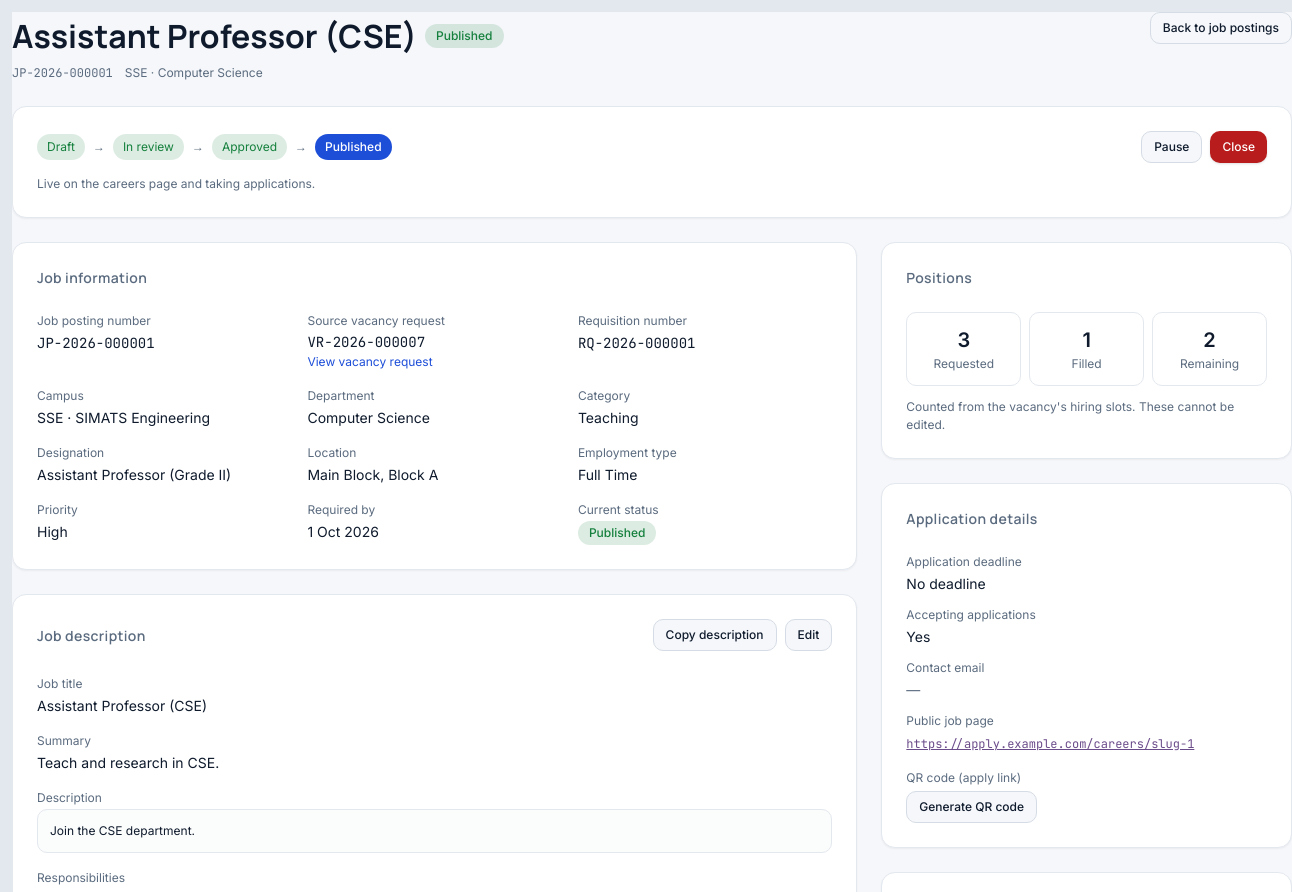
Test: JobPostingDetailPage › shows the backend's message when a lifecycle action is refused
Click the button "Pause": (1172,147) [1141, 131, 1202, 163]
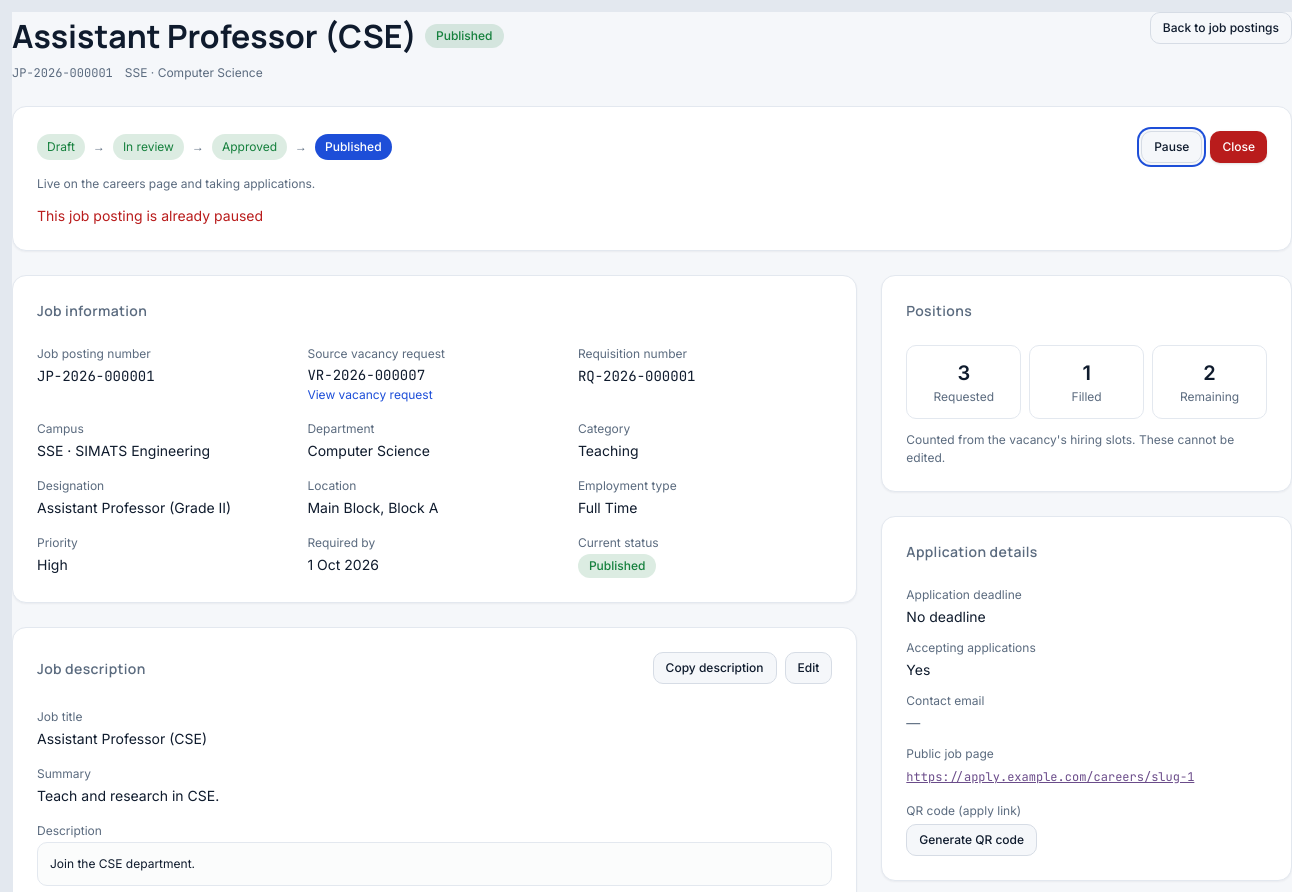
Expected: the text "This job posting is already paused" is shown, [37, 207, 263, 224]
